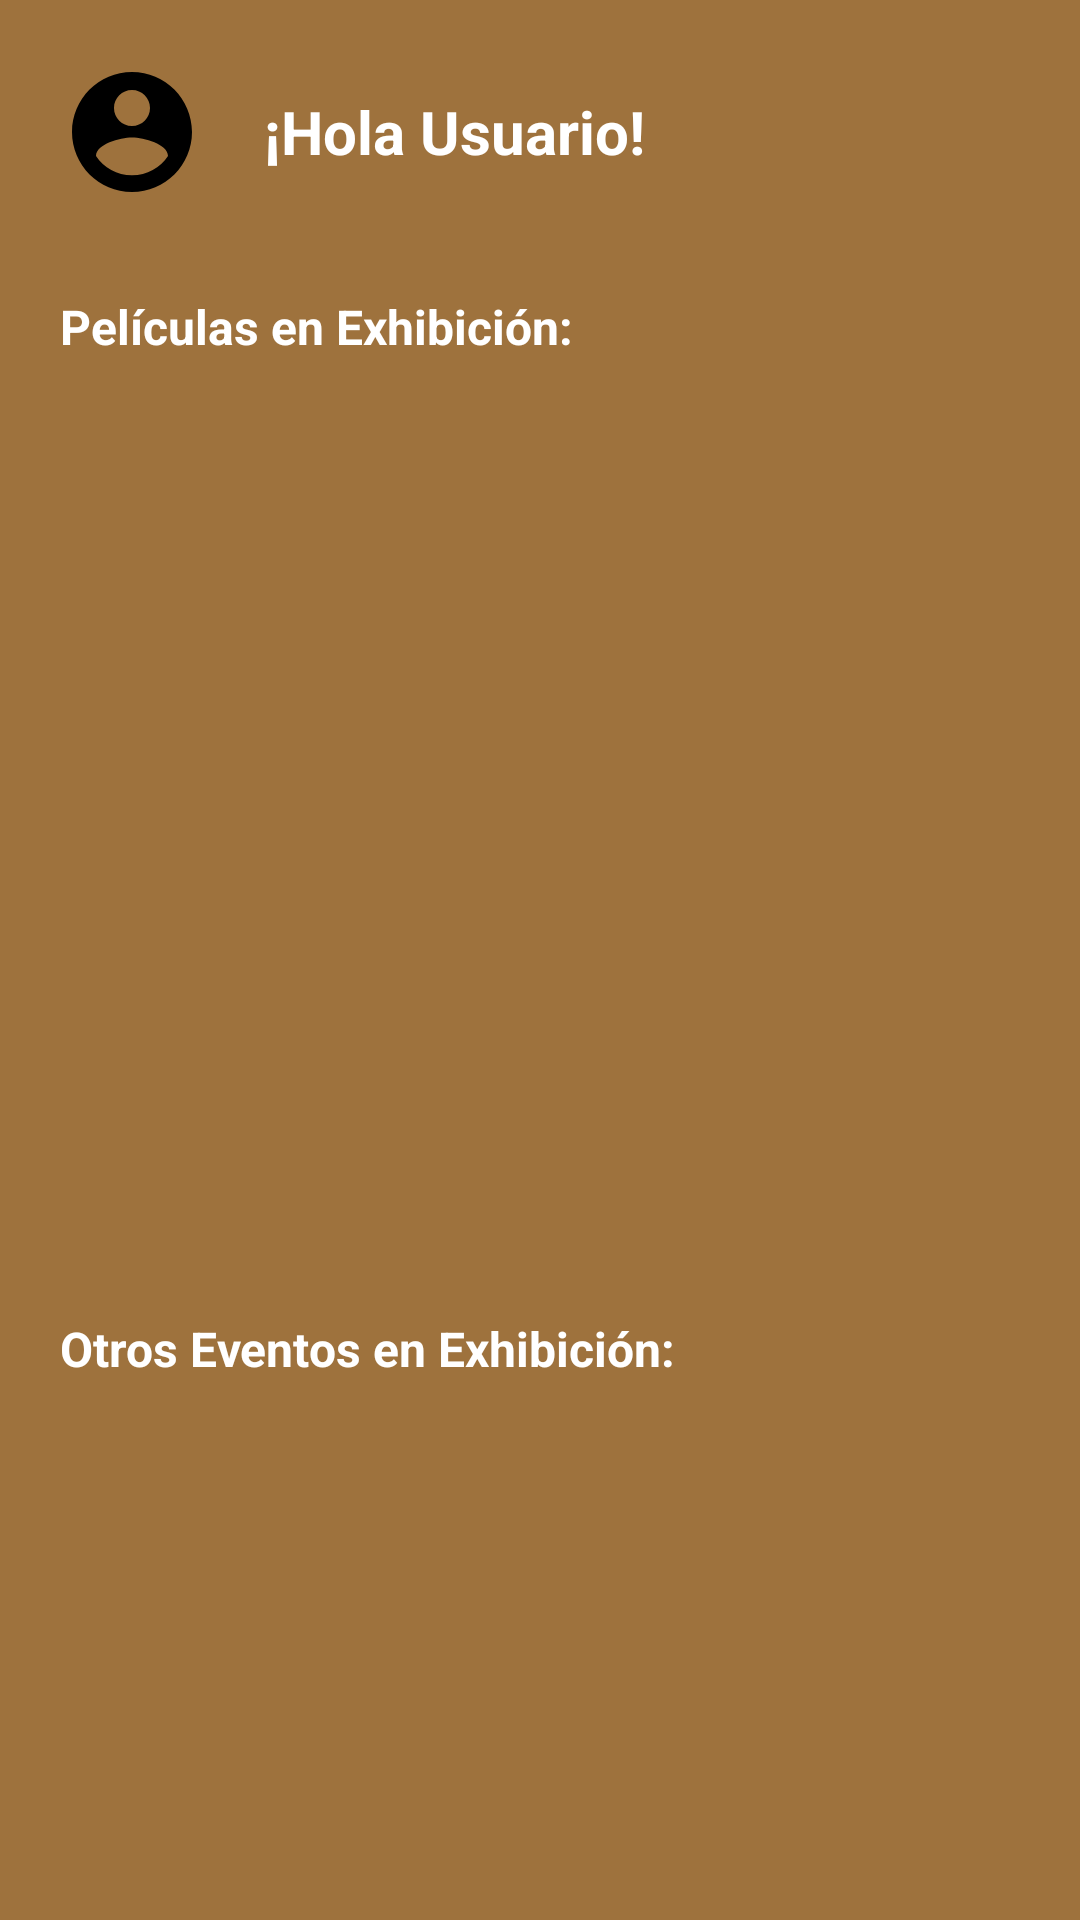

Point at icon controls on the screen. Image size 1080px×1920px, points as (x,y).
account circle: (132,132)
